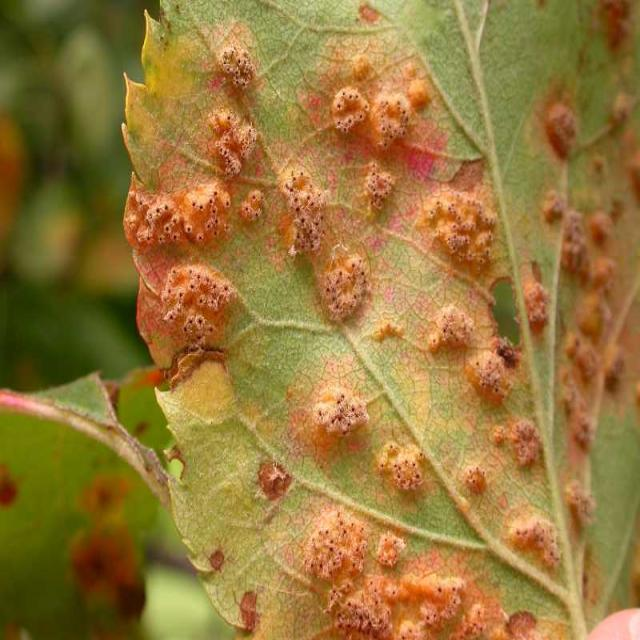Gymnosporangium_Rusts: (20, 7, 640, 640)
